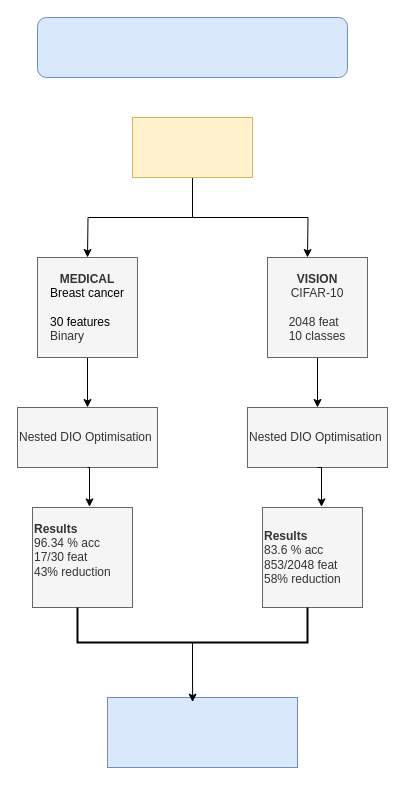
The diagram is 405 pixels wide and 785 high, and some of its shapes have lost their labels. Each missing label, with the box of its shape:
DIO ALGORITHME (Nature_Based): (132, 116, 252, 178)
DIO OPTIMIZATION FRAMWORK MULTI-DOMAIN VALIDATION: (36, 16, 348, 78)
VALIDATION FRAMEWOK 68x scale-up both domains work!: (106, 696, 298, 768)
